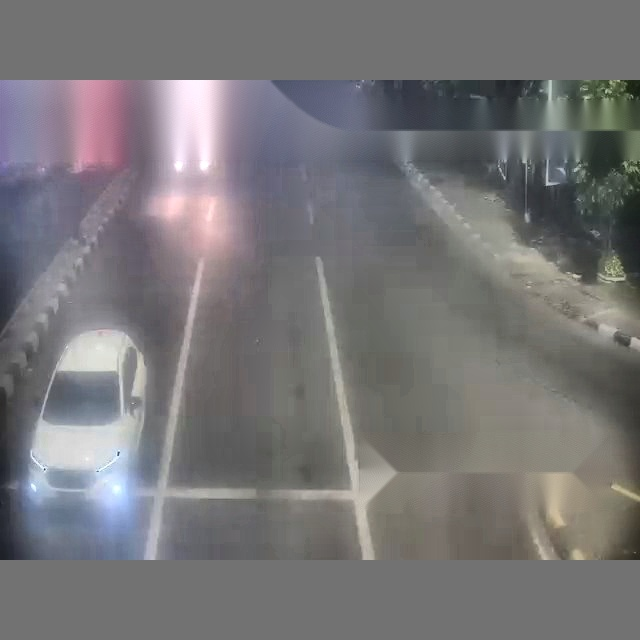Mobil: (14, 329, 146, 557)
